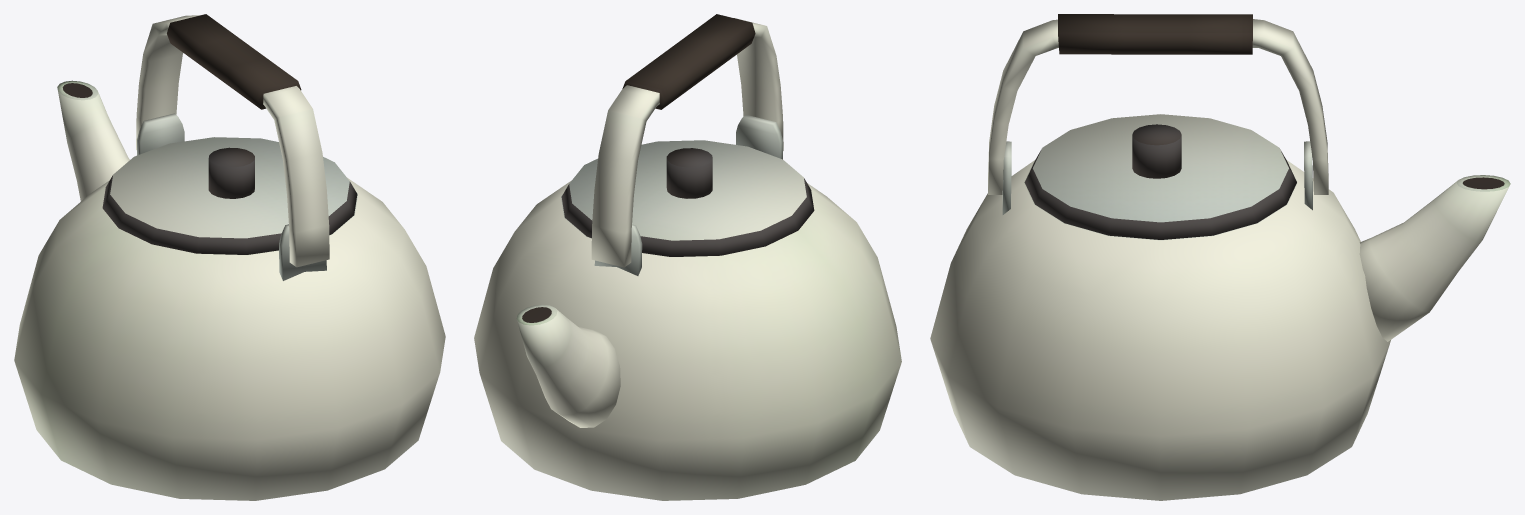
File: porp_cettle01a.fbx
3 views of the same model, side by side, from view 1: azimuth 30°, elevation 25°; view 2: azimuth 150°, elevation 25°; view 3: azimuth 270°, elevation 25° (orthographic). The views are drawn at different scales.
Visible parts, largest first — view 1: porp_cettle01a; view 2: porp_cettle01a; view 3: porp_cettle01a.
Boxes of the visible parts, x1,y1,x2,y2 form: porp_cettle01a: (14, 14, 445, 500); porp_cettle01a: (474, 14, 901, 500); porp_cettle01a: (930, 14, 1510, 500).
Size of the model in its own units: 0.2332 by 0.2181 by 0.2934.
